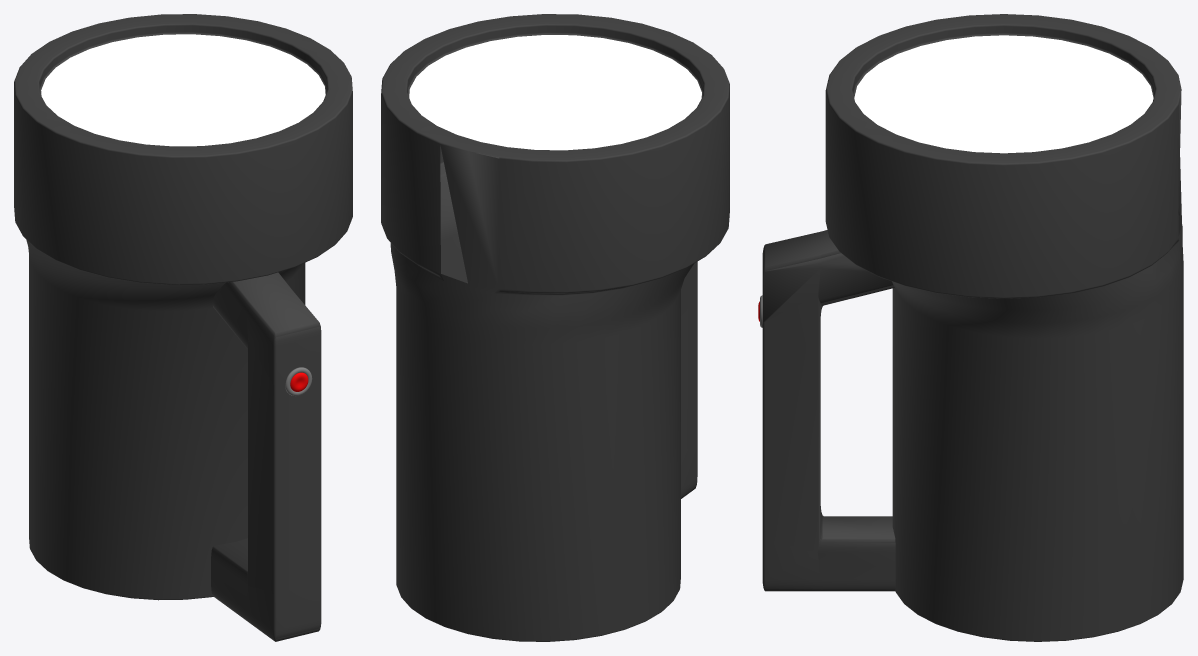
The model's file is flashlight optimised.glb.
3 renders of one model, left to right at view 1: azimuth 30°, elevation 25°; view 2: azimuth 150°, elevation 25°; view 3: azimuth 270°, elevation 25°, orthographic. The views are drawn at different scales.
Parts seen in each view (by area): view 1: Sphere_Button_0; view 2: Sphere_Button_0; view 3: Sphere_Button_0.
Boxes of the visible parts, x1,y1,x2,y2 form: Sphere_Button_0: (14,14,352,641); Sphere_Button_0: (381,14,729,641); Sphere_Button_0: (758,14,1183,641).
Size of the model in its own units: 30.63 by 46.68 by 36.55.
